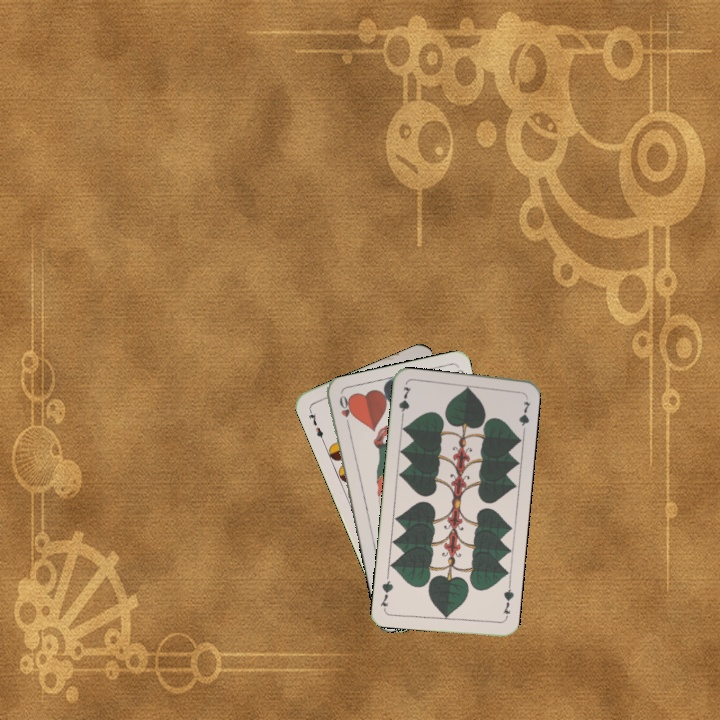E7: (304, 405, 326, 444)
G7: (395, 382, 413, 423), (499, 581, 516, 622)
HO: (335, 391, 353, 431)
